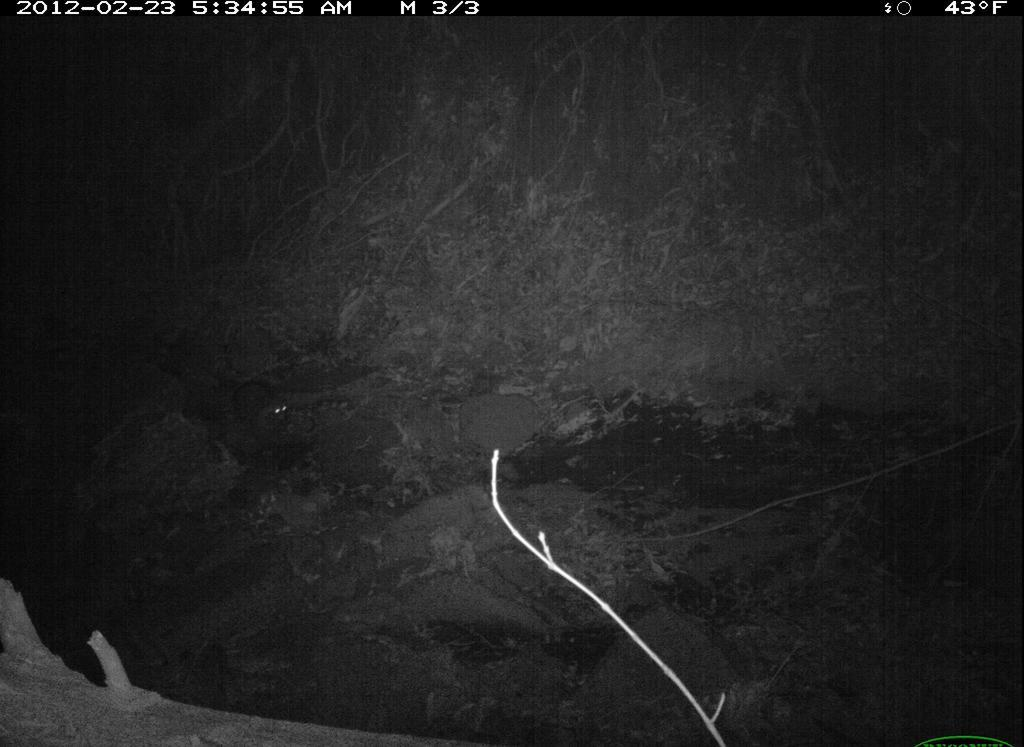raccoon: (221, 373, 300, 439)
